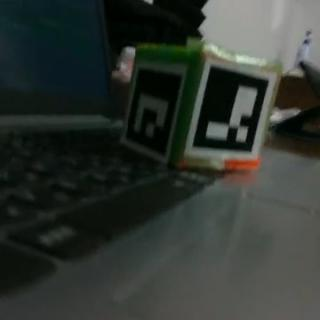armor: (186, 57, 277, 162), (120, 61, 186, 164)
robot: (119, 43, 284, 172)
